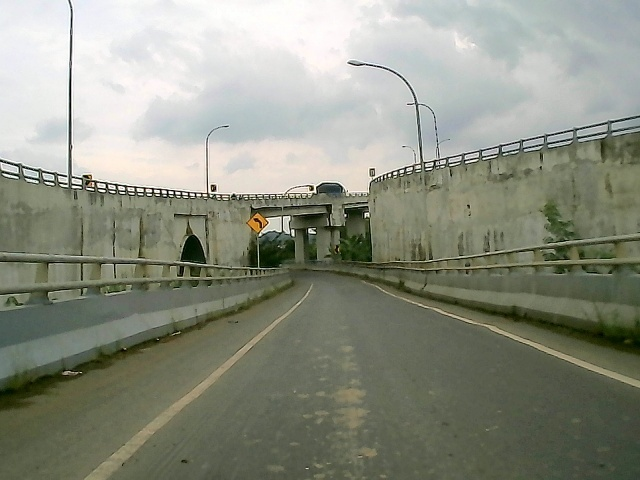Tikungan ke kiri: (243, 211, 271, 234)
